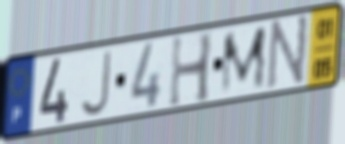4: (129, 39, 164, 112), (38, 56, 70, 127)
H: (167, 29, 215, 111)
J: (78, 48, 113, 119)
M: (219, 22, 269, 98)
N: (264, 12, 311, 92)
